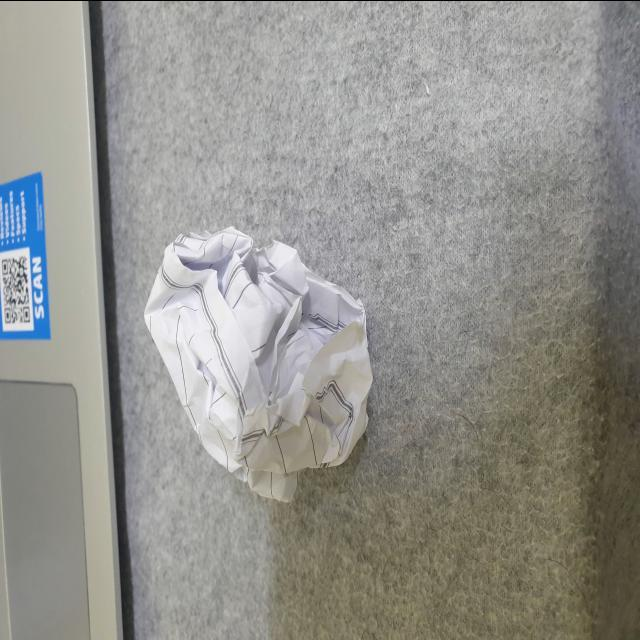Paper: (117, 209, 372, 486)
